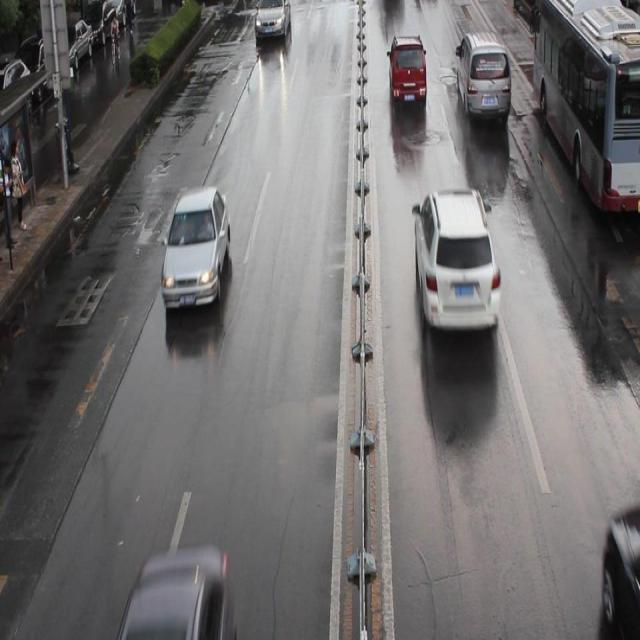car: (413, 185, 500, 331), (161, 186, 230, 306), (600, 506, 640, 640), (387, 35, 426, 105), (254, 1, 290, 42)
truck: (456, 30, 510, 117)
van: (530, 1, 640, 211)
